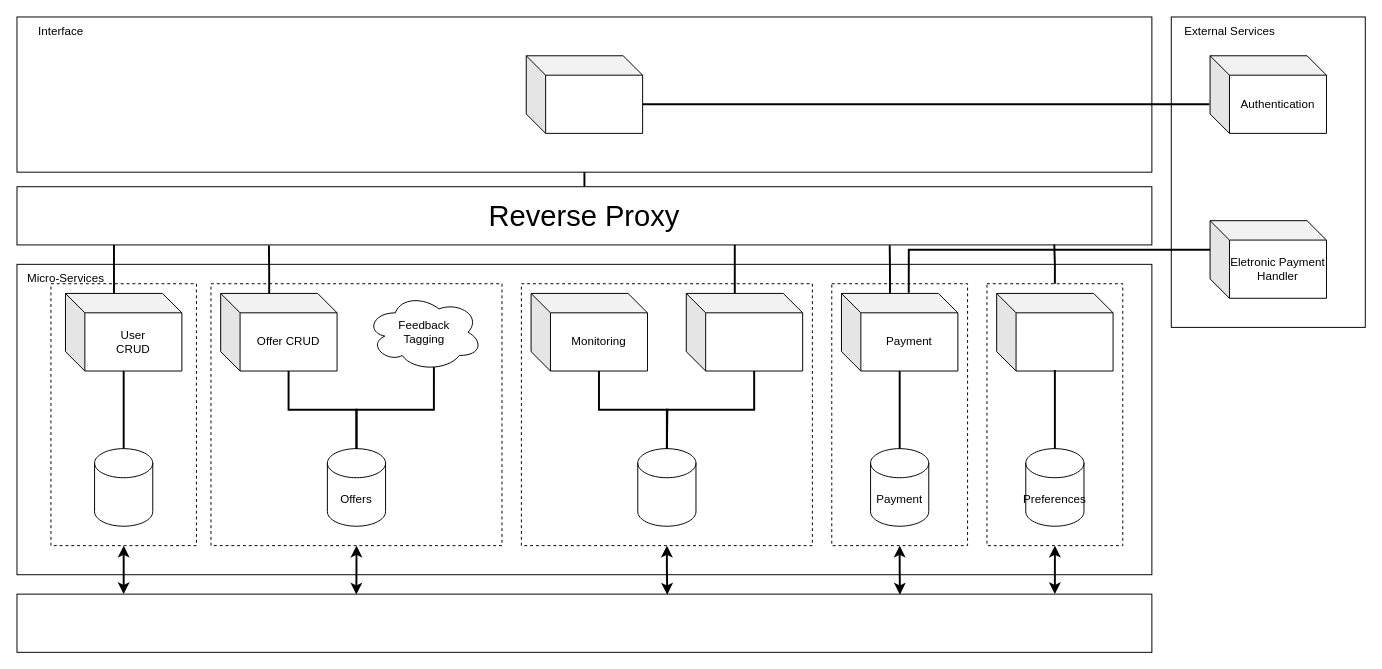
The diagram is 1382 pixels wide and 669 high, and some of its shapes have lost their labels. Here are the shapes that lost their labels. From the top down, the box of each, then its label:
(525, 55, 643, 133): User Interface
(685, 292, 803, 371): Predictor
(996, 292, 1113, 371): Recommender
(94, 448, 153, 526): Users
(637, 448, 696, 526): Data Warehouse
(16, 593, 1152, 652): Message Queue
